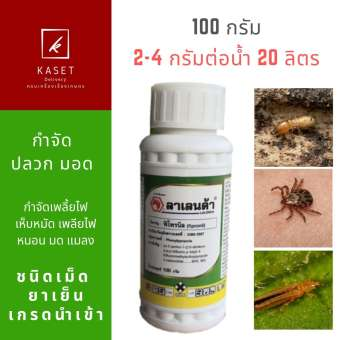Insecticide: (136, 76, 234, 336)
